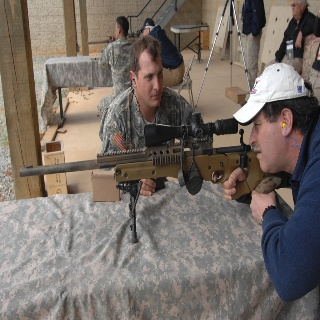rifle: (18, 111, 292, 243)
